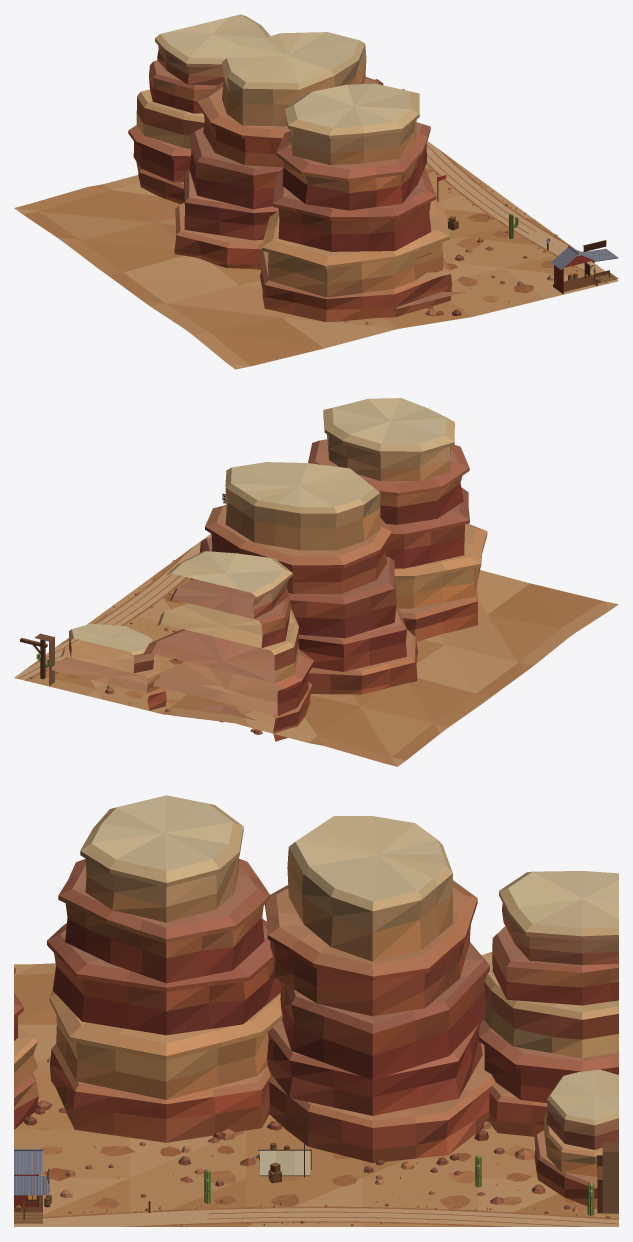
The picture shows the model from 3 angles, top to bottom: view 1: azimuth 30°, elevation 25°; view 2: azimuth 150°, elevation 25°; view 3: azimuth 270°, elevation 25°; orthographic projection. The views are drawn at different scales.
Parts seen in each view (by area): view 1: baked; view 2: baked; view 3: baked.
Part boxes in pixels (box(x1,y1,x2,y2)): baked: box(14, 14, 618, 369); baked: box(14, 398, 618, 766); baked: box(14, 795, 618, 1227).
Size of the model in its own units: 62.5 by 29.02 by 62.5.
